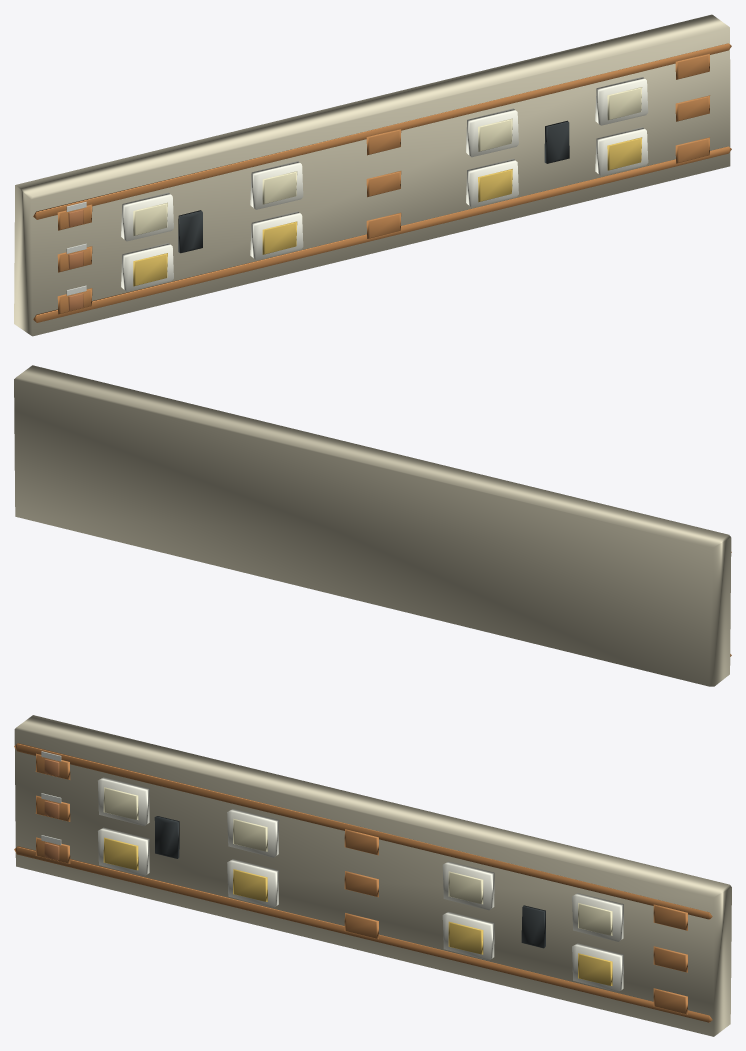
The model's file is cctstrip_default.low.glb.
3 views of the same model, one above another, from view 1: azimuth 30°, elevation 25°; view 2: azimuth 150°, elevation 25°; view 3: azimuth 330°, elevation 25° (orthographic).
Visible parts, largest first — view 1: node-4, node-3 · Original material.001, node-3 · Original material.002, node-20, node-35, node-23, node-32, node-26, node-29, node-41, node-38, node-30 (+7 smaller); view 2: node-4; view 3: node-4, node-3 · Original material.001, node-3 · Original material.002, node-35, node-32, node-20, node-23, node-38, node-41, node-26, node-29, node-33 (+7 smaller).
Boxes of the visible parts, left/top/right/bottom form: node-4: left=14, top=14, right=730, bottom=336; node-3 · Original material.001: left=33, top=43, right=731, bottom=322; node-3 · Original material.002: left=178, top=120, right=569, bottom=253; node-20: left=121, top=243, right=173, bottom=291; node-35: left=466, top=108, right=518, bottom=157; node-23: left=121, top=192, right=173, bottom=241; node-32: left=466, top=158, right=518, bottom=207; node-26: left=250, top=211, right=303, bottom=259; node-29: left=250, top=161, right=303, bottom=209; node-41: left=595, top=77, right=648, bottom=125; node-38: left=595, top=127, right=648, bottom=175; node-30: left=262, top=171, right=297, bottom=204; node-4: left=14, top=365, right=731, bottom=686; node-4: left=14, top=715, right=731, bottom=1036; node-3 · Original material.001: left=14, top=743, right=712, bottom=1022; node-3 · Original material.002: left=154, top=816, right=545, bottom=948; node-35: left=442, top=861, right=494, bottom=910; node-32: left=442, top=912, right=494, bottom=960; node-20: left=98, top=827, right=149, bottom=876; node-23: left=98, top=777, right=149, bottom=826; node-38: left=572, top=943, right=623, bottom=992; node-41: left=572, top=893, right=623, bottom=941; node-26: left=227, top=859, right=279, bottom=907; node-29: left=227, top=809, right=279, bottom=857; node-33: left=448, top=921, right=483, bottom=954.
Size of the model in its own units: 2.05 by 0.3911 by 0.1236.
